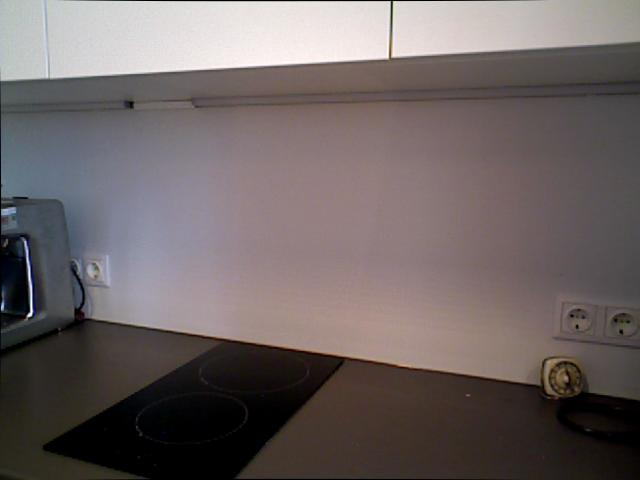giraffe: (539, 355, 586, 405)
